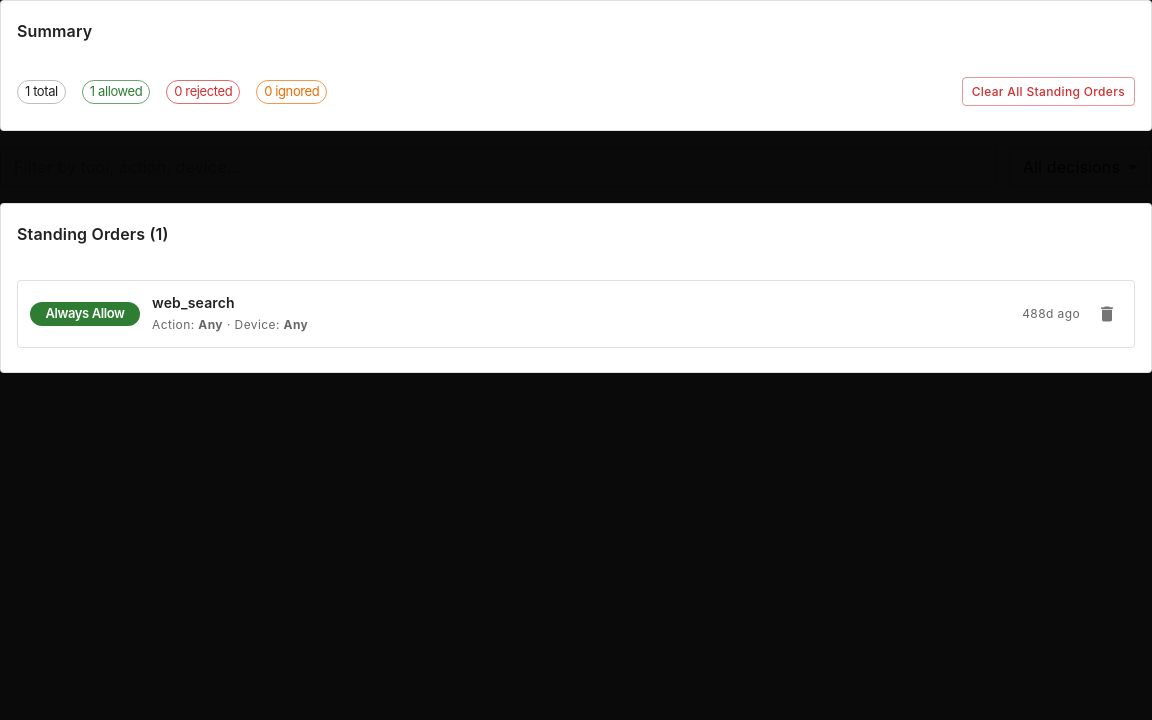
Test: StandingOrdersConfig — clear all › Clear All button opens confirmation dialog
This screenshot has width=1152, height=720.
Click the button "Clear All Standing Orders" at x=1048, y=92, box [962, 77, 1135, 106]
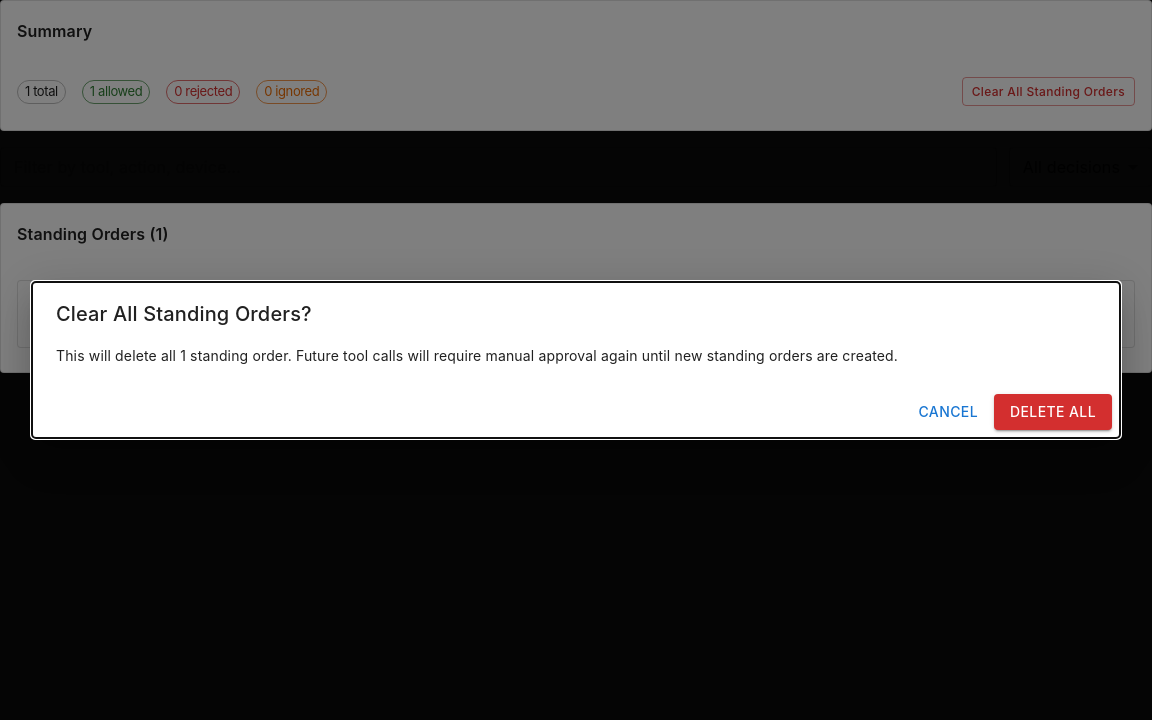
Expected: the heading "Clear All Standing Orders?" is shown, [56, 302, 312, 326]
Expected: the button "Delete All" is shown, [994, 394, 1112, 430]
Expected: the button "Cancel" is shown, [910, 394, 986, 430]
